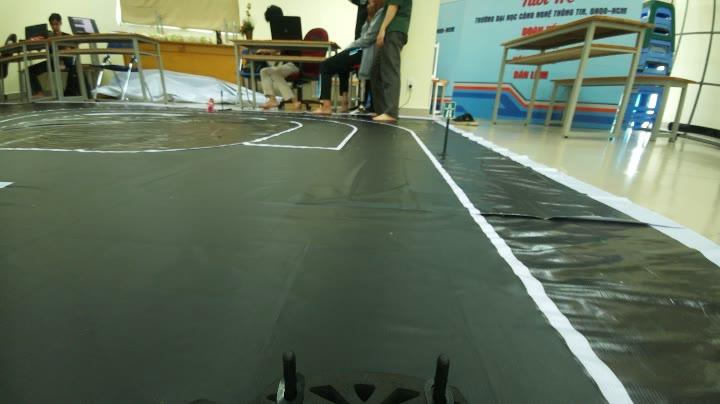highway_entry: (438, 96, 460, 123)
